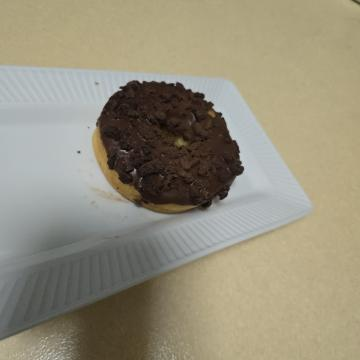doughnut: (70, 104, 226, 283)
